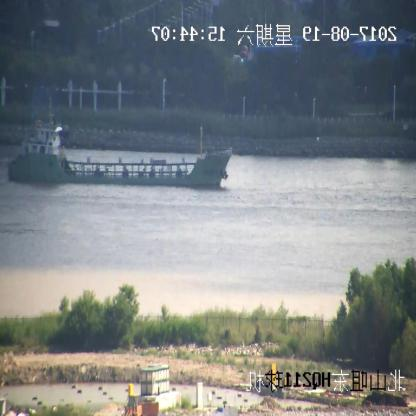Bulk Carrier: (9, 114, 233, 186)
